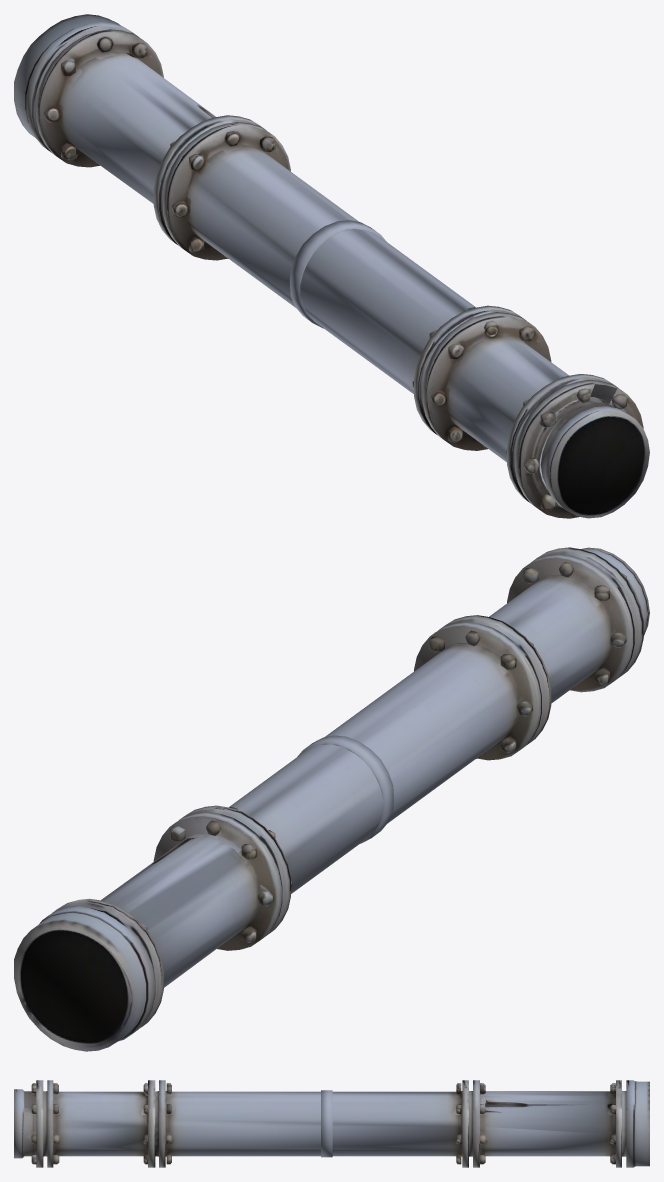
The model's file is industrial_pipe_cb740c0c_v3.glb.
The picture shows the model from 3 angles, top to bottom: view 1: azimuth 30°, elevation 25°; view 2: azimuth 150°, elevation 25°; view 3: azimuth 270°, elevation 25°; orthographic projection. The views are drawn at different scales.
Parts seen in each view (by area): view 1: material; view 2: material; view 3: material.
Part boxes in pixels (x1=…): material: x1=14, y1=14, x2=649, y2=518; material: x1=14, y1=547, x2=649, y2=1051; material: x1=14, y1=1080, x2=649, y2=1167.
Size of the model in its own units: 0.2558 by 0.2597 by 1.9.
Materials: 1 (1 with a texture image).
